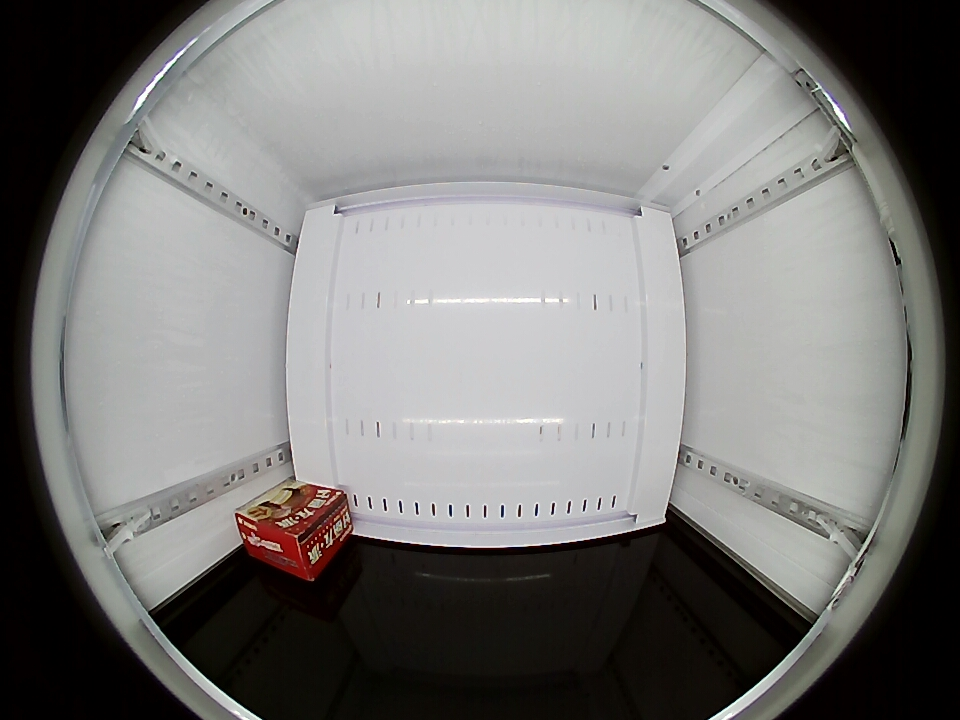haoliyou: (234, 498, 334, 581)
